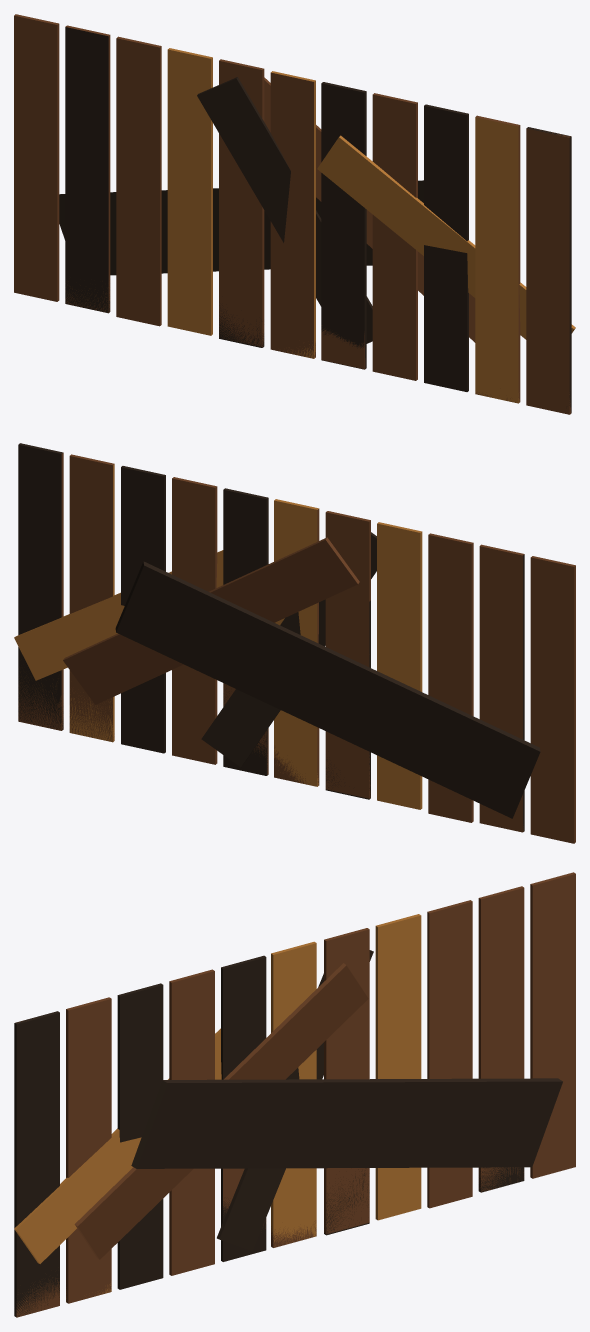
The model's file is Fences.FBX.
3 renders of one model, top to bottom at view 1: azimuth 30°, elevation 25°; view 2: azimuth 210°, elevation 25°; view 3: azimuth 270°, elevation 25°, orthographic. The views are drawn at different scales.
Visible parts, largest first — view 1: StraightStair001, StraightStair004, StraightStair003, StraightStair005, StraightStair002; view 2: StraightStair004, StraightStair005, StraightStair001, StraightStair003, StraightStair002; view 3: StraightStair004, StraightStair005, StraightStair001, StraightStair003, StraightStair002.
Part boxes in pixels (x1=…): StraightStair001: x1=14, y1=15, x2=571, y2=414; StraightStair004: x1=14, y1=14, x2=575, y2=413; StraightStair003: x1=197, y1=77, x2=372, y2=343; StraightStair005: x1=59, y1=77, x2=475, y2=342; StraightStair002: x1=219, y1=305, x2=365, y2=369; StraightStair004: x1=14, y1=443, x2=575, y2=842; StraightStair005: x1=63, y1=537, x2=540, y2=822; StraightStair001: x1=18, y1=453, x2=575, y2=843; StraightStair003: x1=201, y1=532, x2=376, y2=767; StraightStair002: x1=223, y1=600, x2=370, y2=799; StraightStair004: x1=14, y1=872, x2=575, y2=1317; StraightStair005: x1=74, y1=963, x2=562, y2=1259; StraightStair001: x1=14, y1=900, x2=575, y2=1317; StraightStair003: x1=217, y1=950, x2=373, y2=1251; StraightStair002: x1=223, y1=1168, x2=369, y2=1235.
Bounding box in the file's own units: 172 × 153 × 264.
